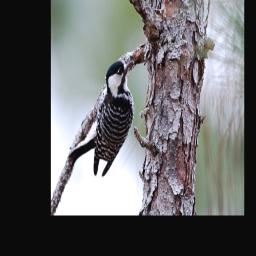Woodpecker: (68, 56, 137, 178)
